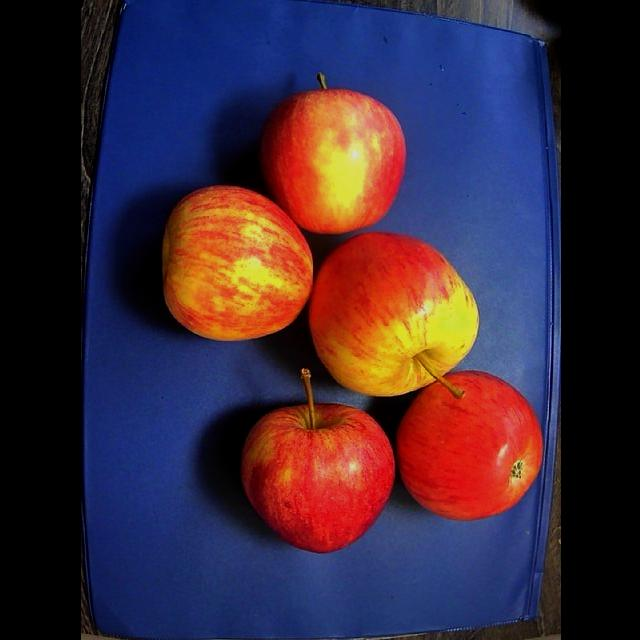manzana: (240, 369, 394, 553), (308, 233, 478, 398), (161, 187, 312, 341), (260, 81, 405, 235), (396, 372, 542, 520)
